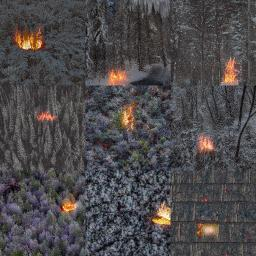Small fire: (10, 22, 49, 55), (210, 55, 249, 88), (145, 196, 180, 228), (32, 101, 63, 130), (192, 218, 225, 243), (115, 102, 139, 133), (57, 192, 84, 217), (196, 133, 219, 155), (105, 66, 132, 84)
